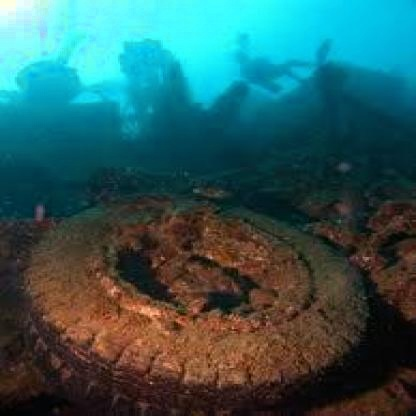tire: (30, 174, 388, 414)
